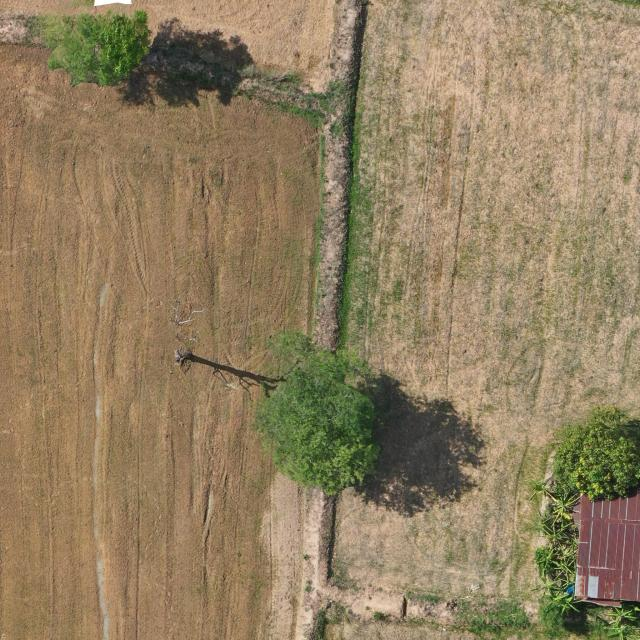banana_tree2: (537, 516, 575, 551), (550, 492, 582, 527), (530, 572, 566, 600), (545, 593, 582, 616), (606, 606, 638, 627), (602, 624, 640, 640)
tree: (260, 332, 380, 502), (44, 8, 152, 88), (551, 406, 639, 503)
